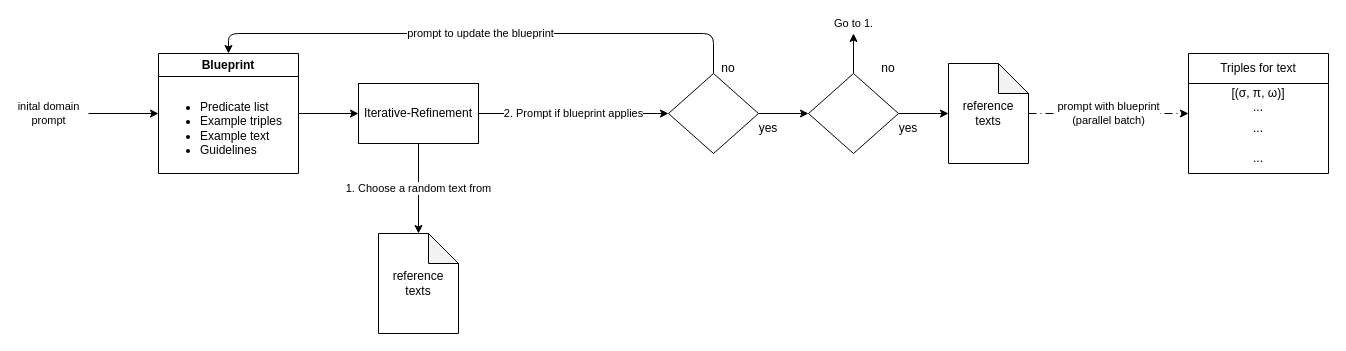
This 1346x351 diagram has some shape labels left out. The shapes that lost their labels are listed below. From the top down, each one's box as (x1, y1, x2, y2) in pixels, then its label:
(668, 72, 758, 154): applies?
(808, 72, 898, 154): iterations exausted?
